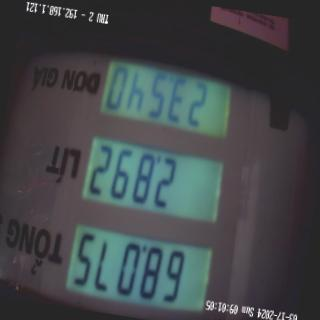screen: (57, 21, 249, 320)
